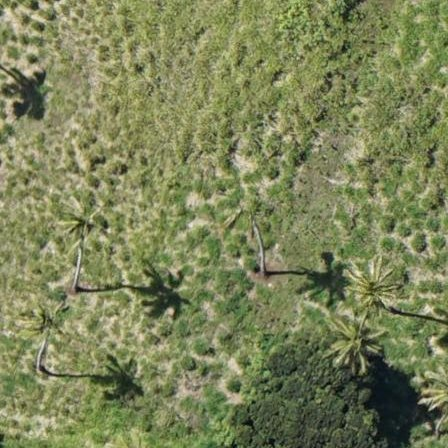palm_tree: (321, 314, 382, 378), (343, 256, 402, 319), (55, 191, 105, 249), (23, 299, 65, 337)
